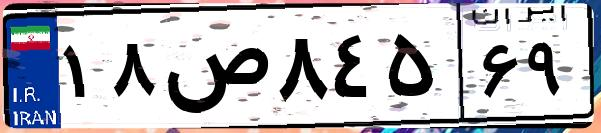1: (57, 26, 110, 100)
4: (330, 28, 385, 110)
5: (385, 28, 445, 110)
6: (475, 38, 525, 113)
8: (270, 28, 330, 110), (110, 28, 158, 98)
9: (525, 38, 570, 115)
ص: (158, 20, 270, 120)
